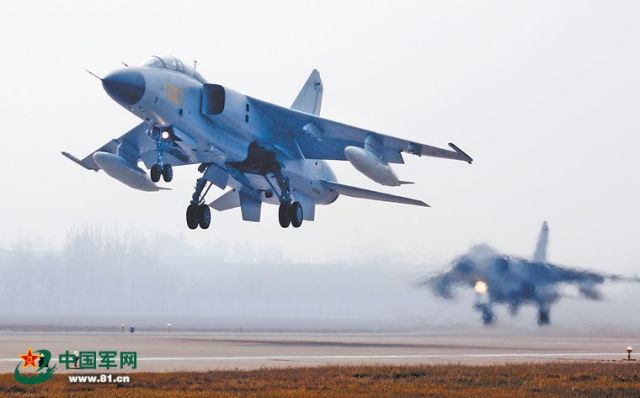airplane: (54, 47, 475, 222), (412, 220, 632, 327)
